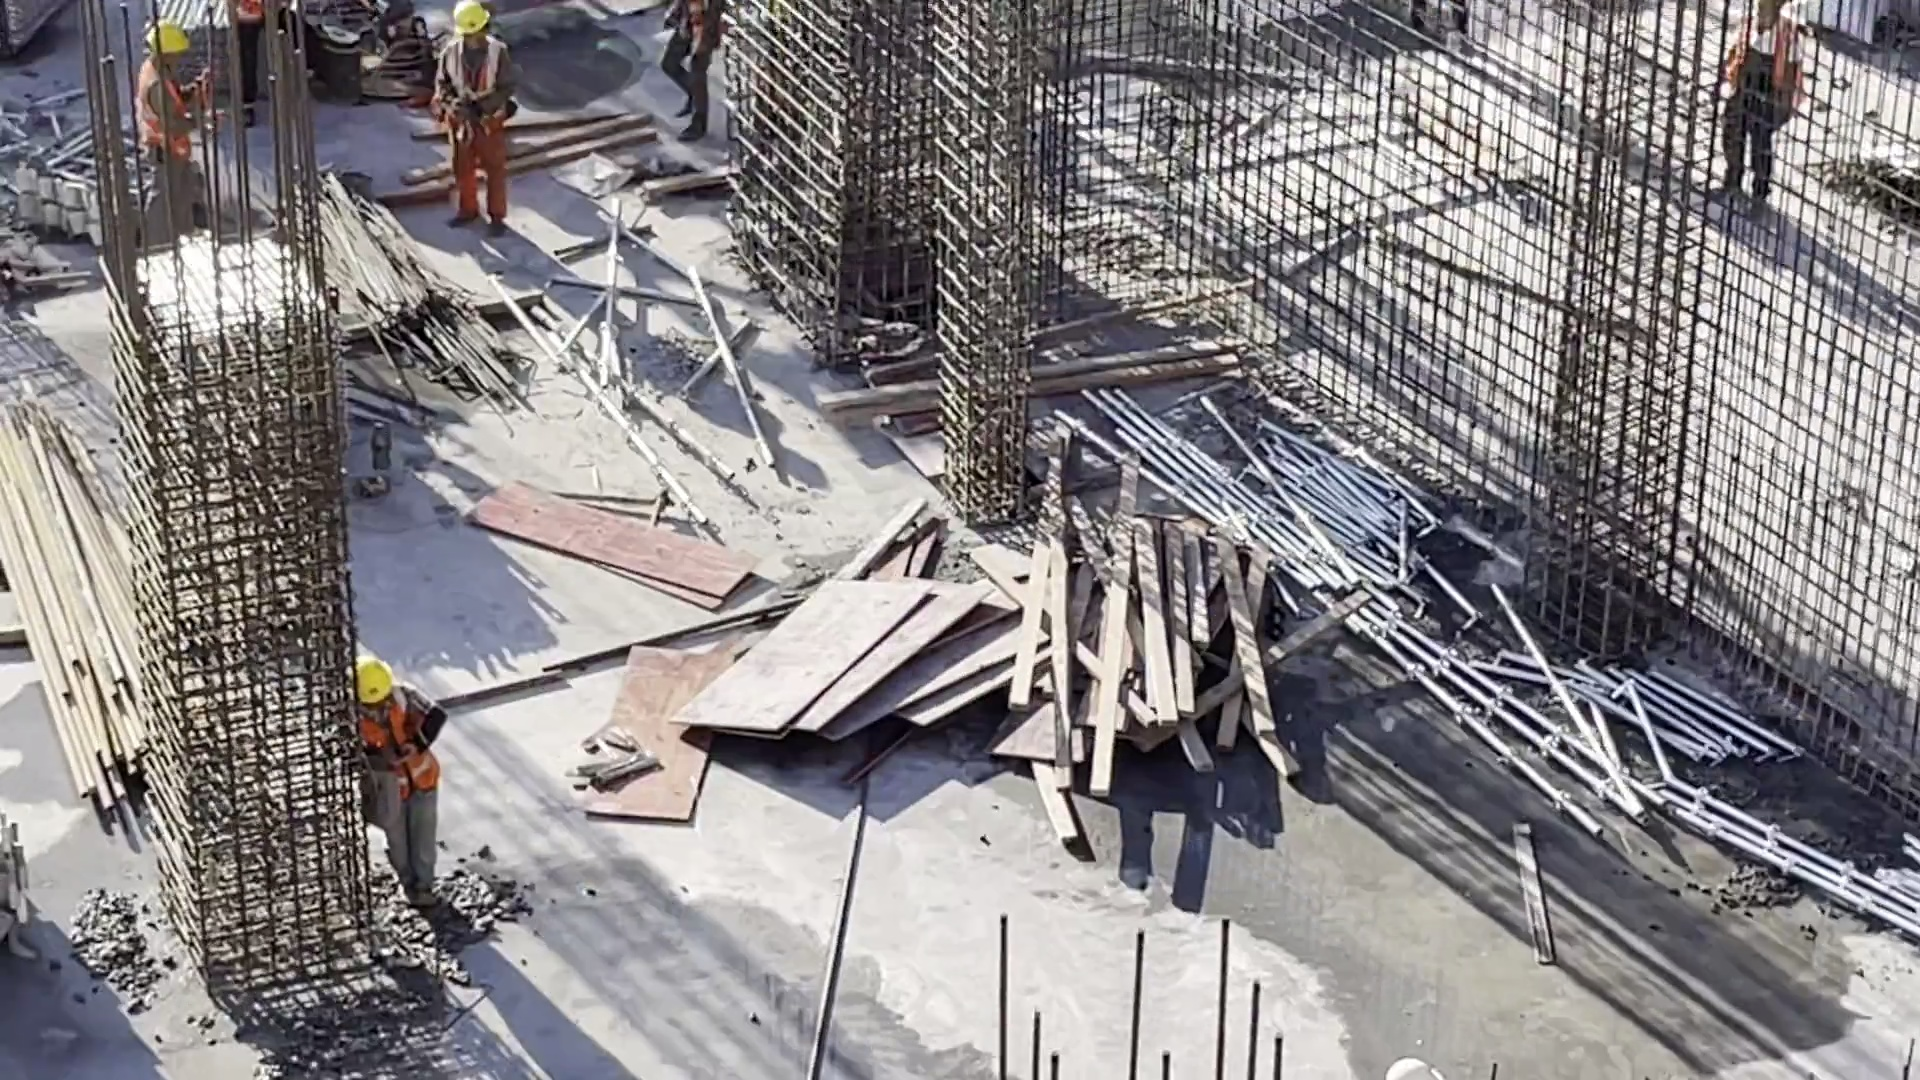board: (699, 574, 995, 756)
helmet: (148, 6, 193, 71), (333, 660, 384, 706), (449, 1, 506, 37)
person: (330, 656, 470, 898), (418, 1, 532, 231), (125, 13, 243, 231), (1727, 1, 1808, 205), (645, 1, 719, 134)
scaffold: (1210, 421, 1416, 571), (1591, 660, 1750, 800), (32, 135, 159, 247)
vest: (358, 684, 441, 791), (127, 73, 215, 165), (437, 37, 501, 134), (1734, 22, 1799, 105)
wood: (1015, 480, 1266, 813)
